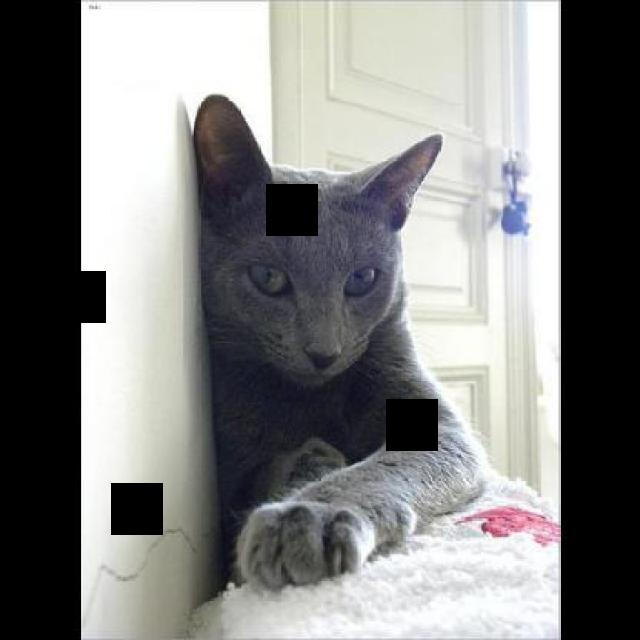unauthorized: (190, 92, 488, 592)
